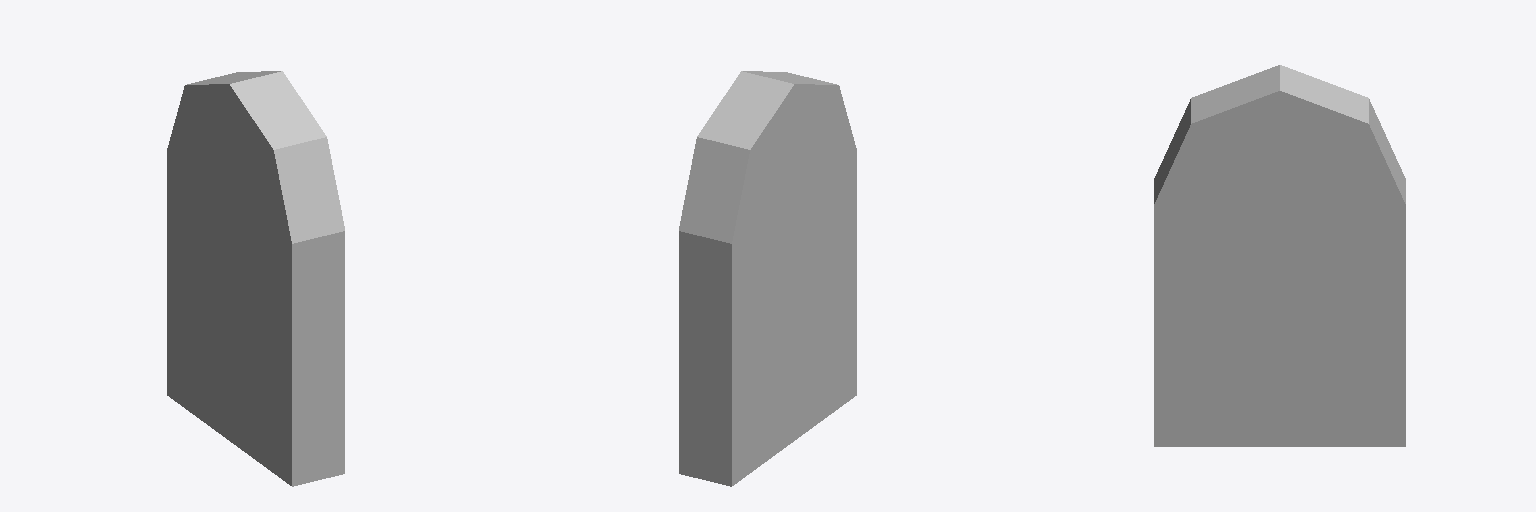
File: Wood_Door_01.obj
3 renders of one model, left to right at view 1: azimuth 30°, elevation 25°; view 2: azimuth 150°, elevation 25°; view 3: azimuth 270°, elevation 25°, orthographic.
Parts seen in each view (by area): view 1: Mesh1 Wood_Door Model; view 2: Mesh1 Wood_Door Model; view 3: Mesh1 Wood_Door Model.
Part boxes in pixels (bbox=[...]): Mesh1 Wood_Door Model: bbox=[167, 71, 344, 486]; Mesh1 Wood_Door Model: bbox=[679, 71, 856, 486]; Mesh1 Wood_Door Model: bbox=[1154, 65, 1405, 446].
Bounding box in the file's own units: 0.3 × 1.92 × 1.22.